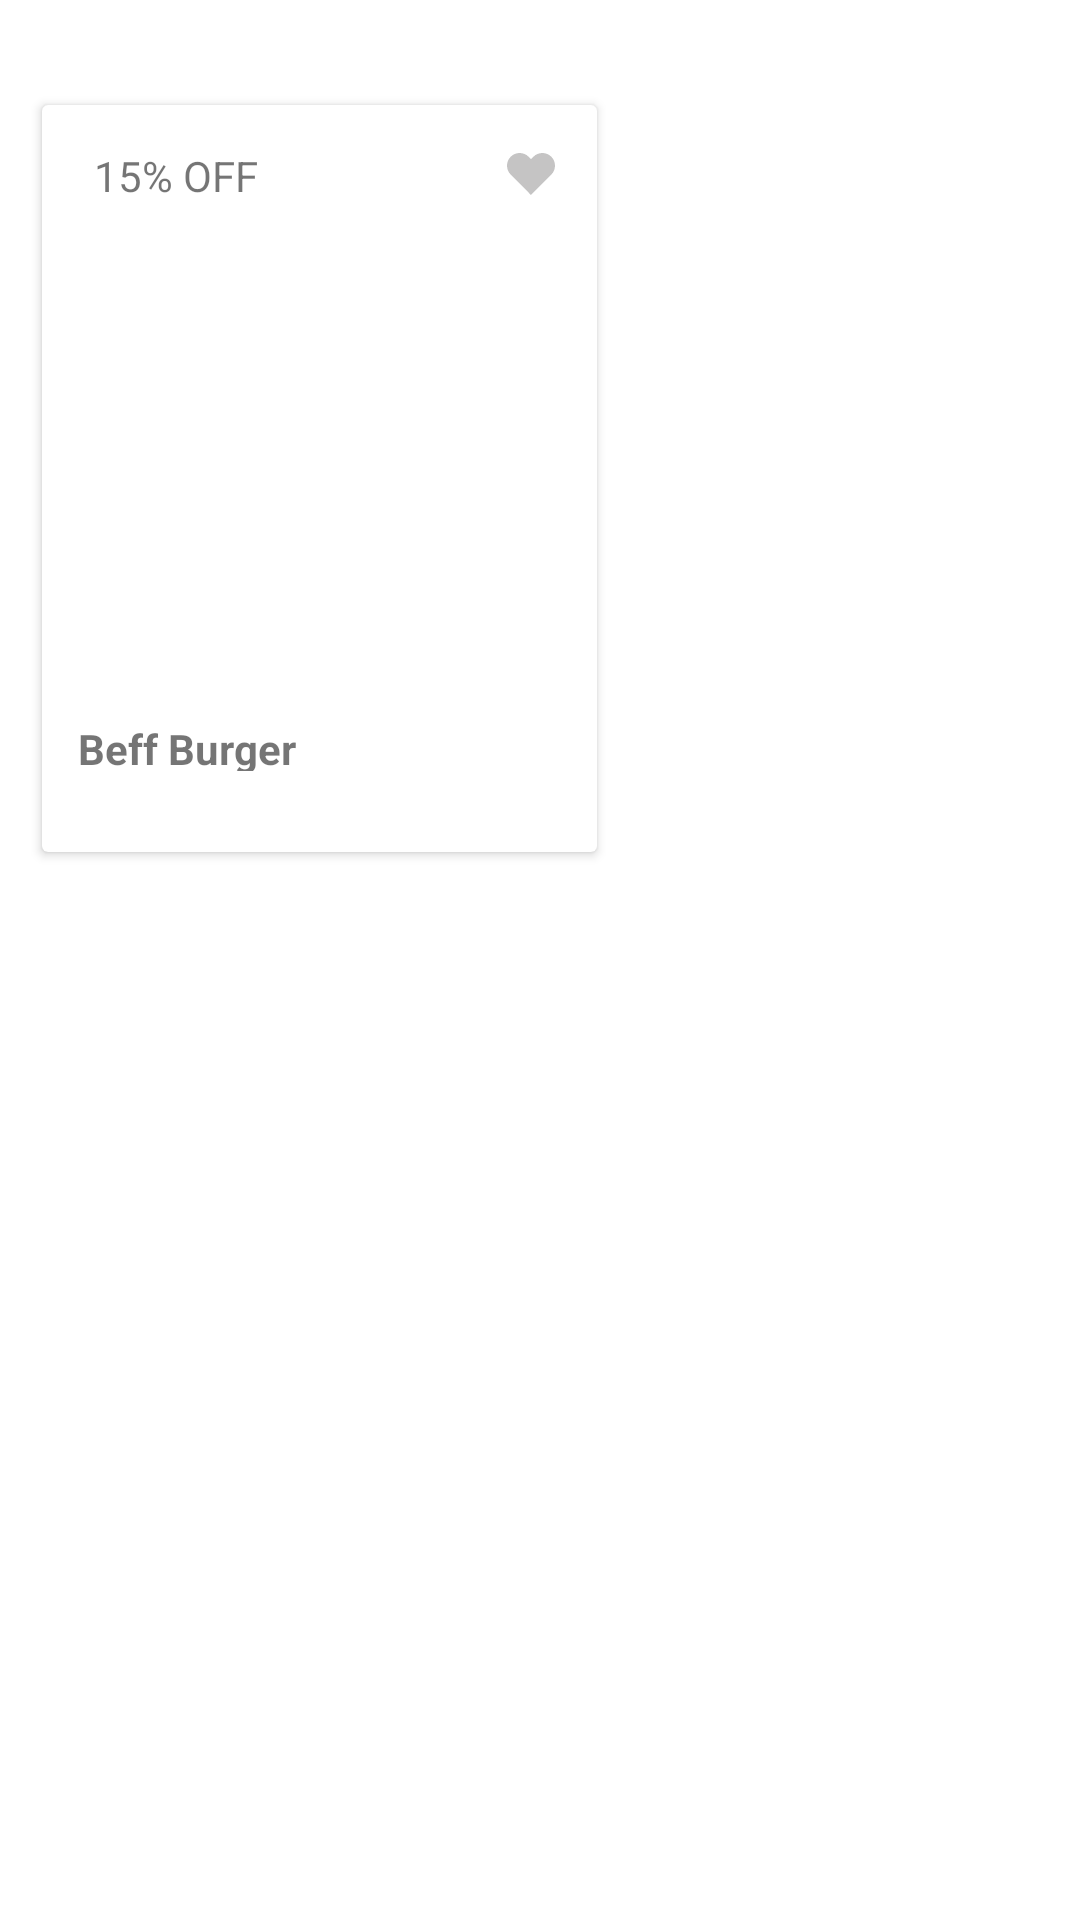

Icon bounding boxes for this 1080*1920 phone screenshot, format (x1, y1, x2, y2):
heart plain: (507, 153, 555, 195)
